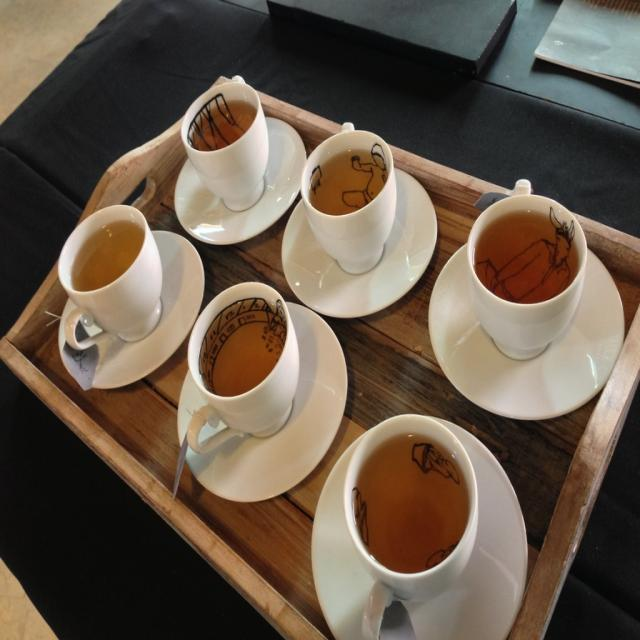Tea: (52, 194, 180, 358), (353, 436, 468, 572), (472, 209, 580, 300), (198, 299, 284, 398), (306, 150, 388, 213), (70, 223, 144, 287), (189, 100, 257, 152)
